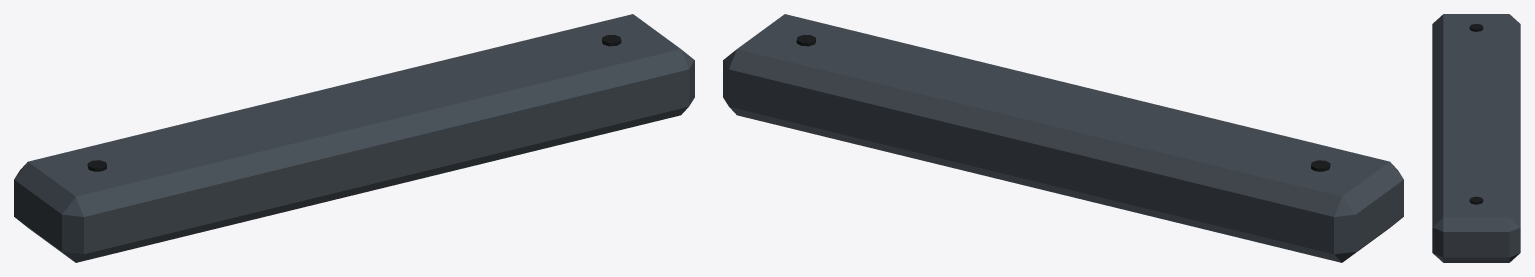
Rendered from WheelStopPlain.fbx.
3 renders of one model, left to right at view 1: azimuth 30°, elevation 25°; view 2: azimuth 150°, elevation 25°; view 3: azimuth 270°, elevation 25°, orthographic. The views are drawn at different scales.
Parts seen in each view (by area): view 1: WheelStopPlain; view 2: WheelStopPlain; view 3: WheelStopPlain.
Boxes of the visible parts, left/top/right/bottom form: WheelStopPlain: left=14, top=14, right=694, bottom=262; WheelStopPlain: left=723, top=14, right=1403, bottom=262; WheelStopPlain: left=1432, top=14, right=1520, bottom=262.
Bounding box in the file's own units: 160 × 16.9 × 28.
1 material, 1 textured.
